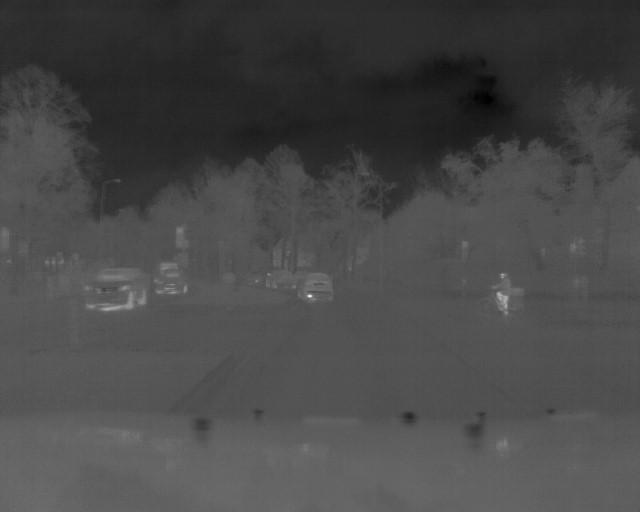car: (83, 257, 155, 311), (153, 262, 193, 295), (297, 270, 337, 301), (265, 265, 296, 291)
person: (491, 266, 511, 317)
